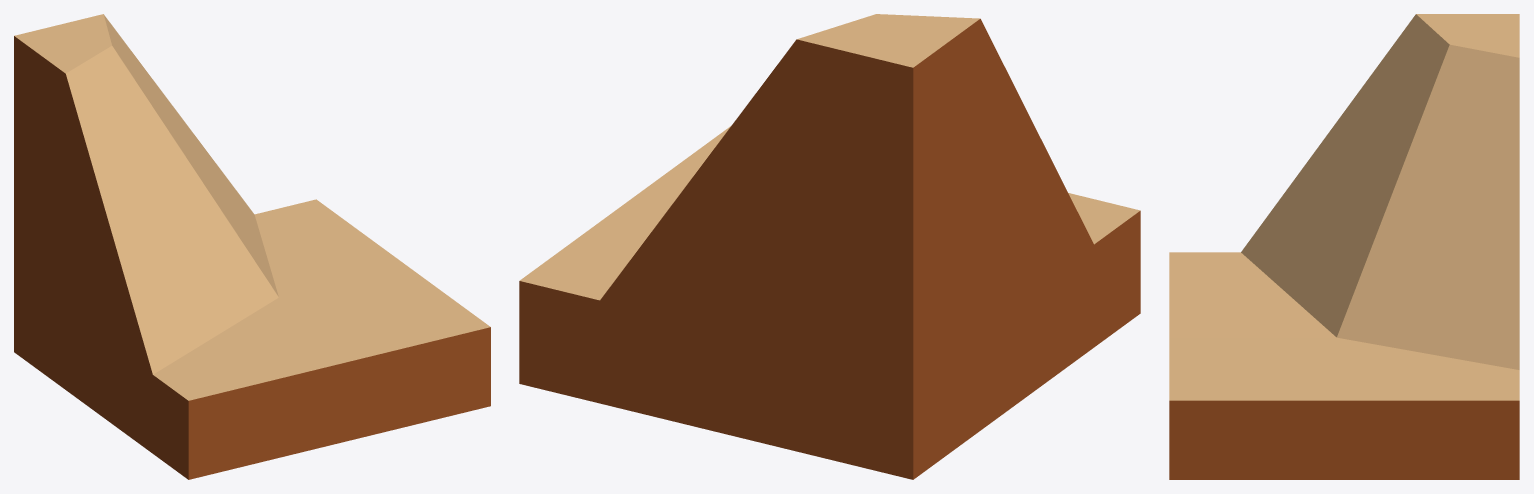
File: cornerExt_wall_sand.fbx
3 renders of one model, left to right at view 1: azimuth 30°, elevation 25°; view 2: azimuth 150°, elevation 25°; view 3: azimuth 270°, elevation 25°, orthographic. The views are drawn at different scales.
Visible parts, largest first — view 1: cornerExt_wall_sand; view 2: cornerExt_wall_sand; view 3: cornerExt_wall_sand.
Boxes of the visible parts, x1,y1,x2,y2 form: cornerExt_wall_sand: (14, 14, 490, 479); cornerExt_wall_sand: (519, 14, 1140, 479); cornerExt_wall_sand: (1169, 14, 1519, 479).
Size of the model in its own units: 200 by 200 by 200.
